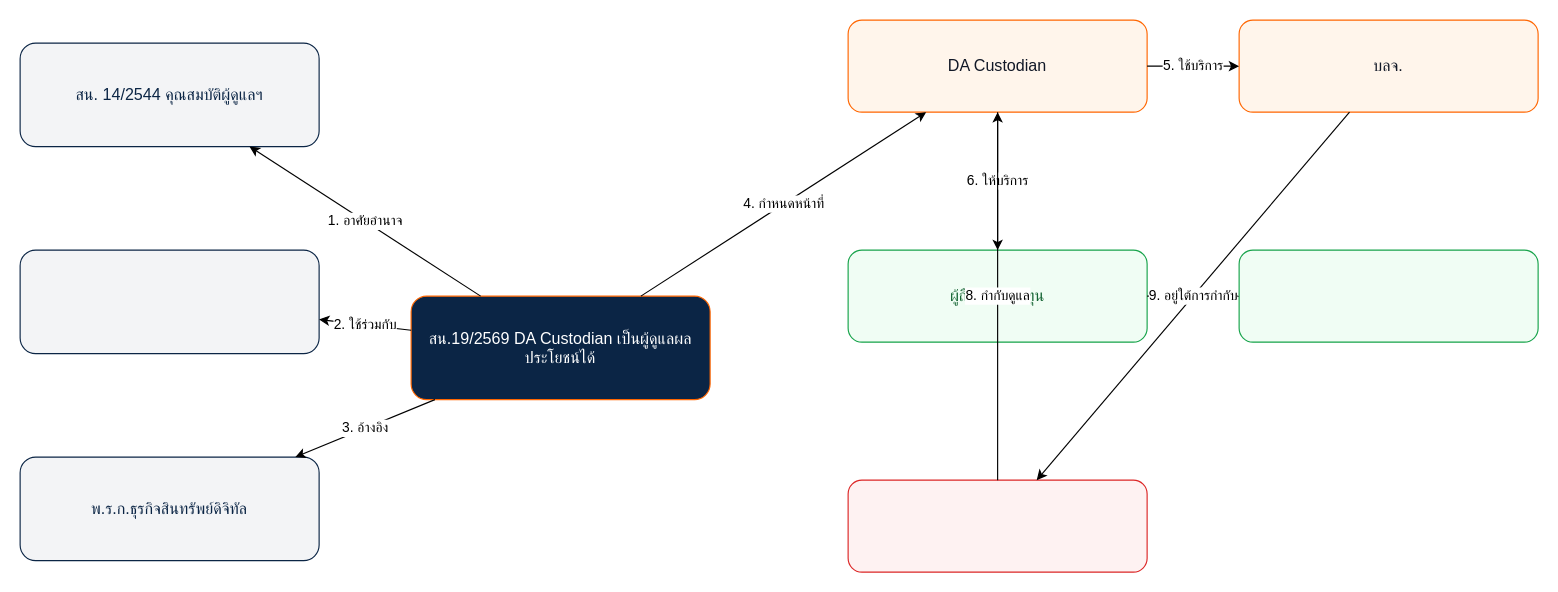
The diagram is 1558 pixels wide and 592 high, and some of its shapes have lost their labels. The shapes that lost their labels are listed below. From the top down, each one's centre as x and y in pixels, then its label:
(169,301): สธ. 20/2569 ขึ้นทะเบียน
(1388,295): ผู้ลงทุนทั่วไป
(997,525): ก.ล.ต.
